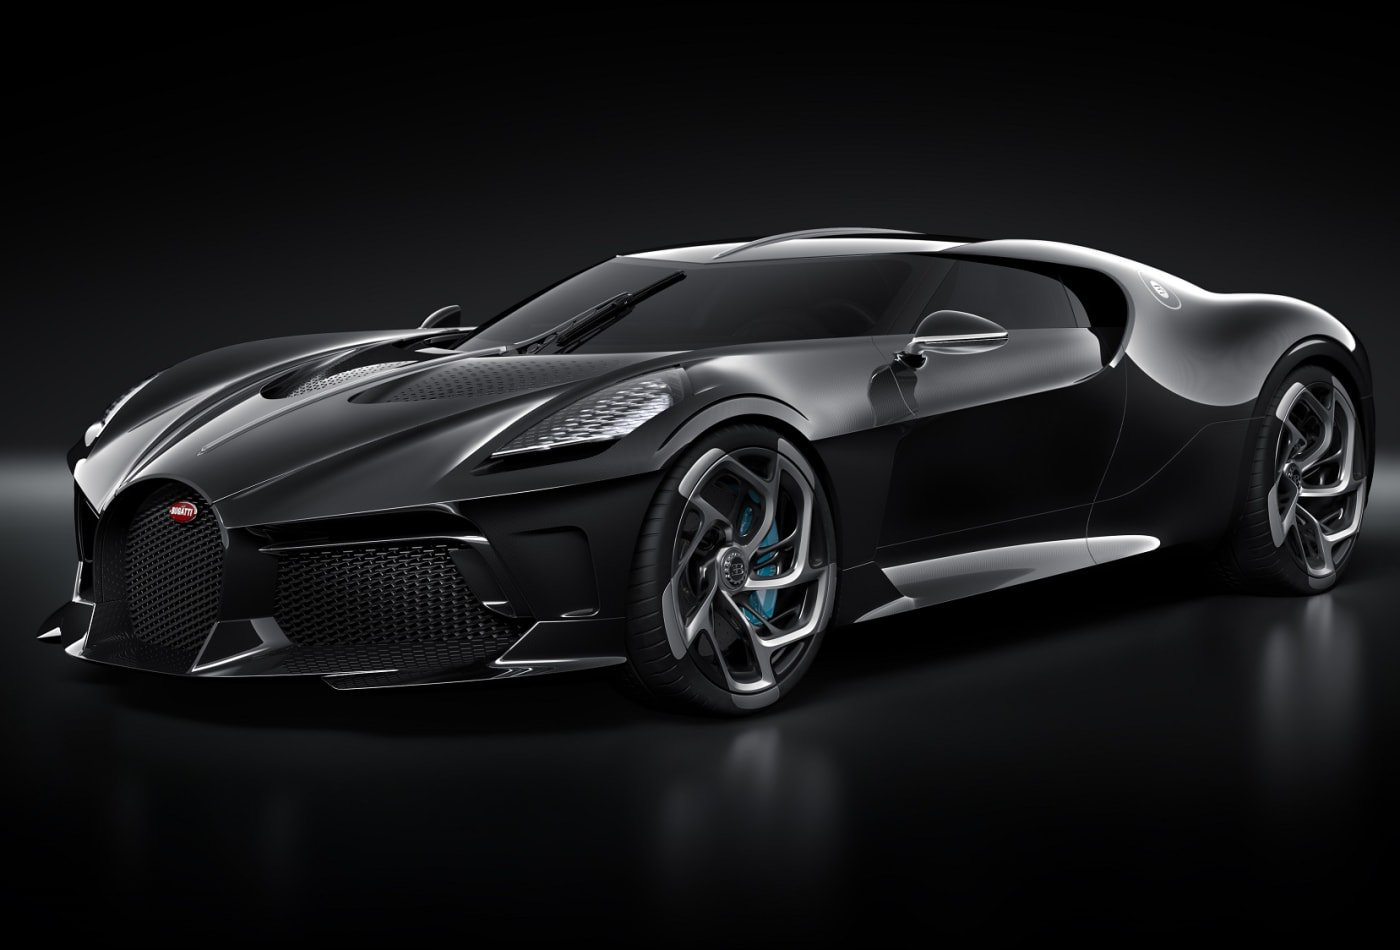car: (52, 219, 1383, 712)
